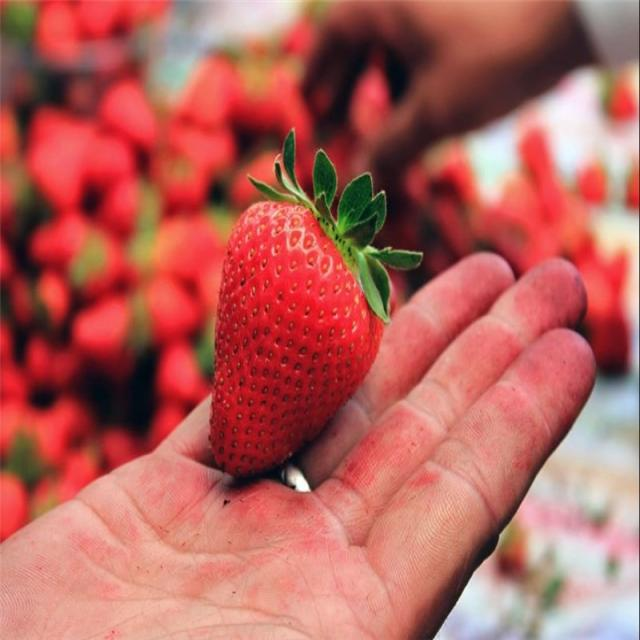strawberry: (208, 130, 393, 482)
